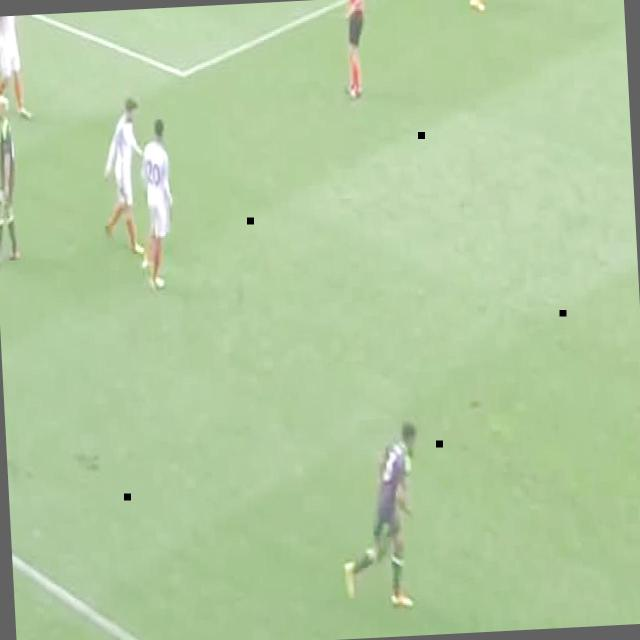player-white: (337, 420, 425, 614), (98, 96, 146, 256), (136, 118, 178, 293), (0, 91, 22, 266), (0, 14, 34, 122), (337, 0, 369, 102), (454, 0, 503, 14)
